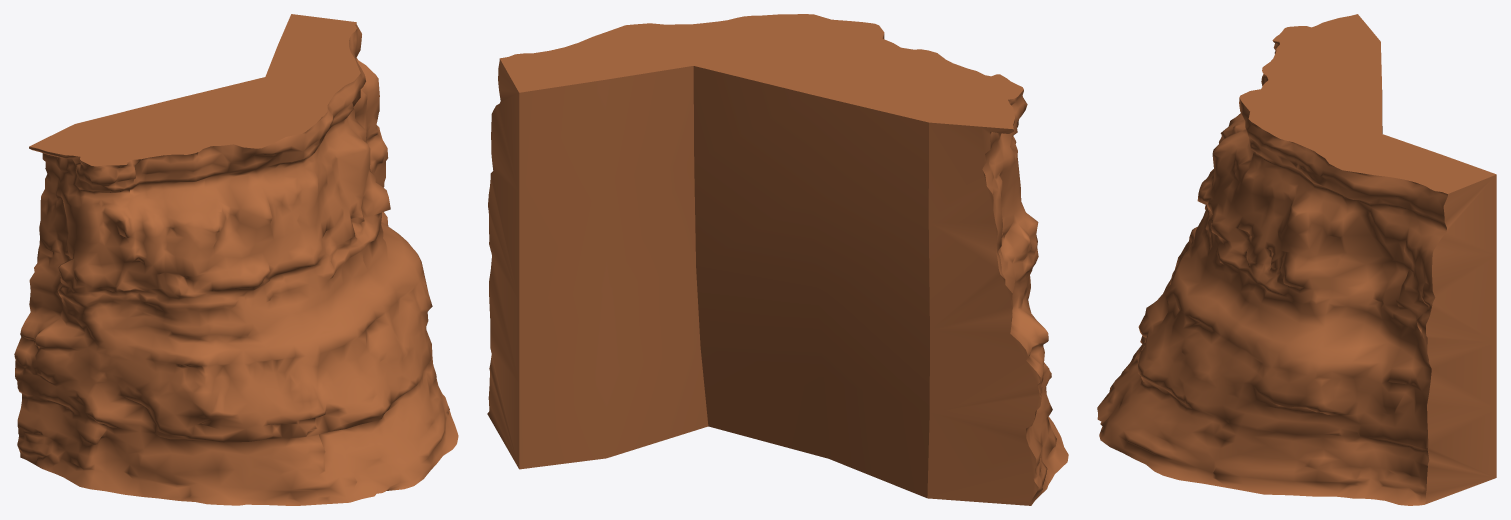
The model's file is MSH_Rocks_Cliff_06_b.FBX.
3 renders of one model, left to right at view 1: azimuth 30°, elevation 25°; view 2: azimuth 150°, elevation 25°; view 3: azimuth 270°, elevation 25°, orthographic. The views are drawn at different scales.
Parts seen in each view (by area): view 1: MESH_LOD0, CAP_LOD0; view 2: CAP_LOD0, MESH_LOD0; view 3: MESH_LOD0, CAP_LOD0.
Part boxes in pixels (x1,y1,x2,y2): MESH_LOD0: [14, 23, 458, 505]; CAP_LOD0: [29, 14, 360, 166]; CAP_LOD0: [487, 14, 1041, 505]; MESH_LOD0: [488, 34, 1068, 505]; MESH_LOD0: [1097, 40, 1447, 505]; CAP_LOD0: [1239, 14, 1496, 504].
Size of what is drawn, in the model's own units: 947 by 668 by 797.
